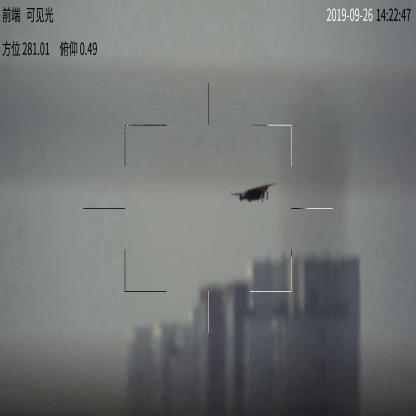uav: (228, 181, 277, 206)
